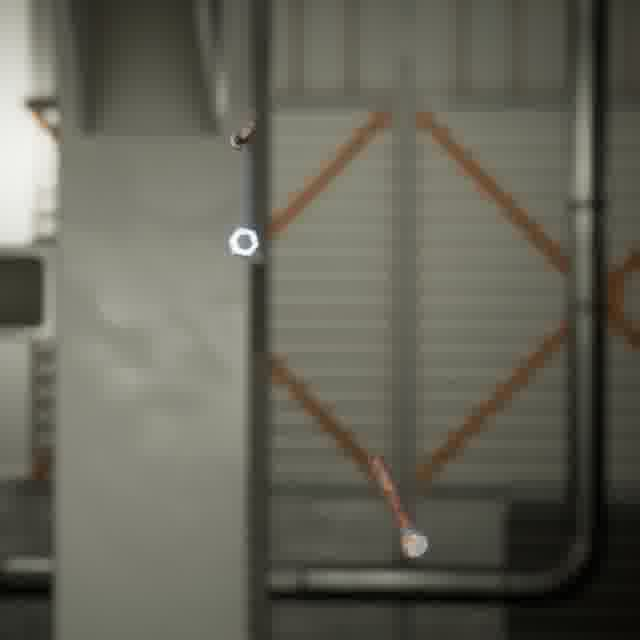bolt: (364, 449, 432, 562), (223, 116, 258, 154)
nut: (223, 222, 264, 262)
